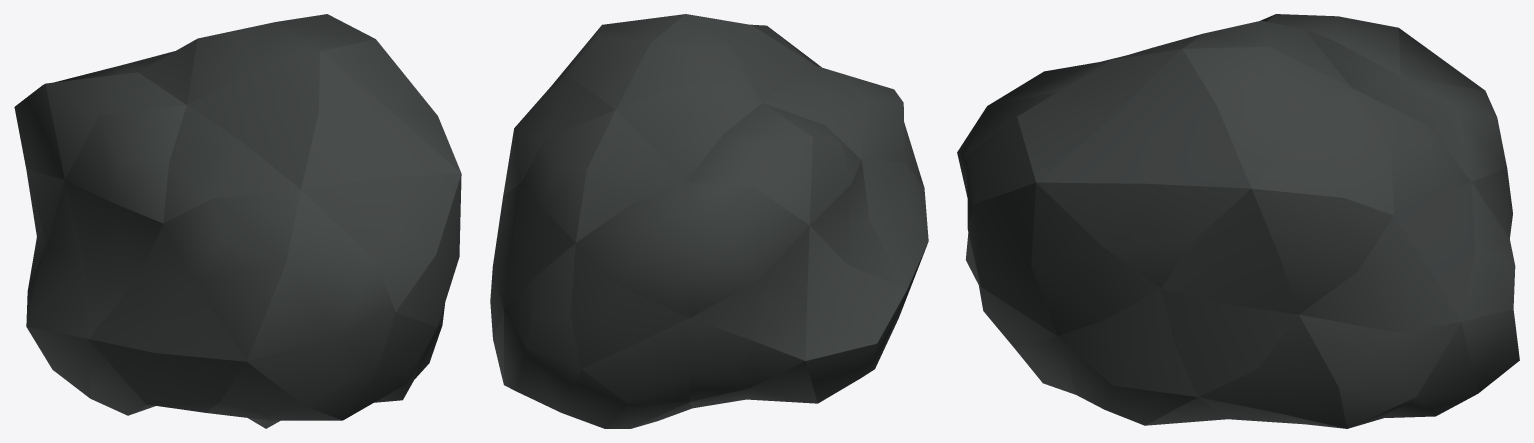
Rendered from pond.fbx.
3 renders of one model, left to right at view 1: azimuth 30°, elevation 25°; view 2: azimuth 150°, elevation 25°; view 3: azimuth 270°, elevation 25°, orthographic. The views are drawn at different scales.
Parts seen in each view (by area): view 1: rock; view 2: rock; view 3: rock.
Part boxes in pixels (<box>): rock: <box>14,14,461,428</box>; rock: <box>490,14,928,428</box>; rock: <box>957,14,1519,428</box>.
Size of the model in its own units: 59.3 by 53.46 by 74.74.
1 material, 1 textured.
